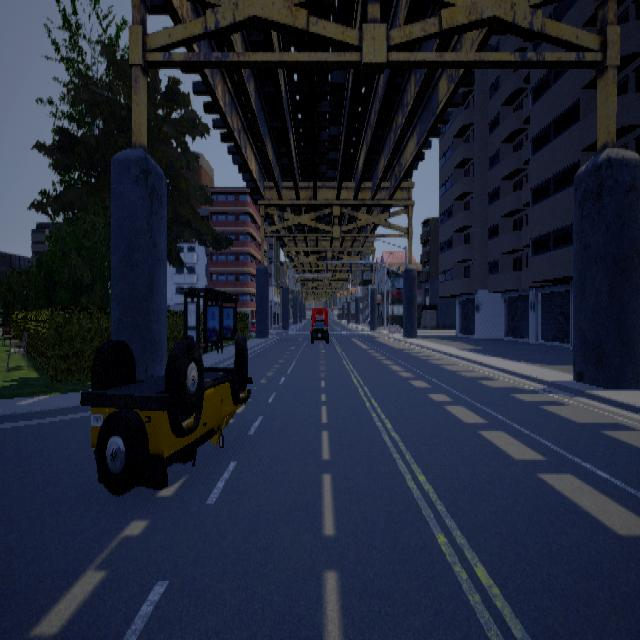vehicle: (81, 334, 254, 495), (311, 306, 330, 342)
